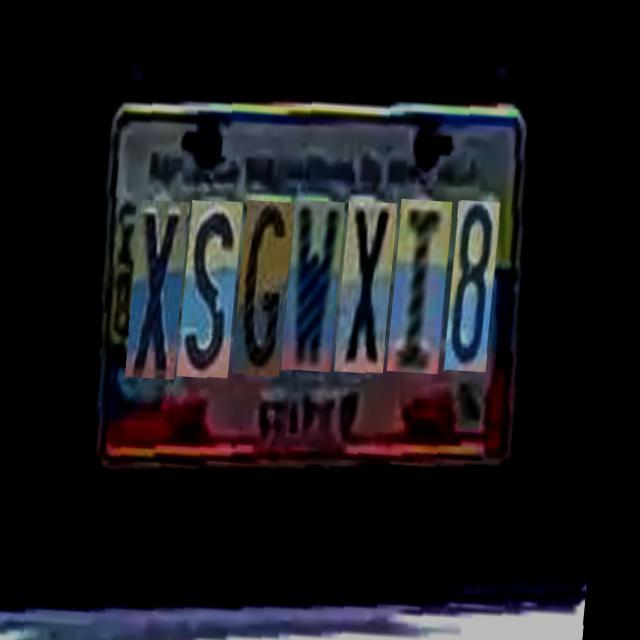8: (449, 192, 504, 364)
G: (238, 191, 298, 367)
I: (392, 190, 456, 365)
S: (182, 190, 246, 370)
W: (287, 191, 349, 363)
X: (132, 190, 194, 370), (340, 192, 401, 364)
